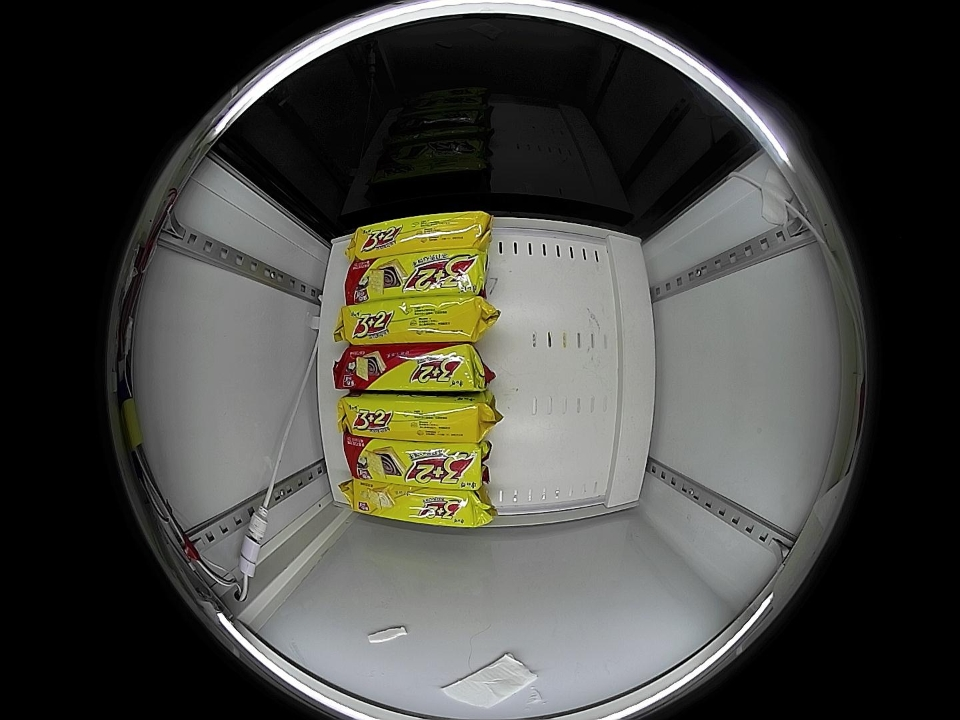3+2-2: (339, 394, 488, 441), (341, 297, 486, 345), (349, 211, 492, 259), (353, 484, 491, 527)
3jia2: (339, 345, 486, 392), (347, 252, 488, 300), (344, 440, 488, 487)
